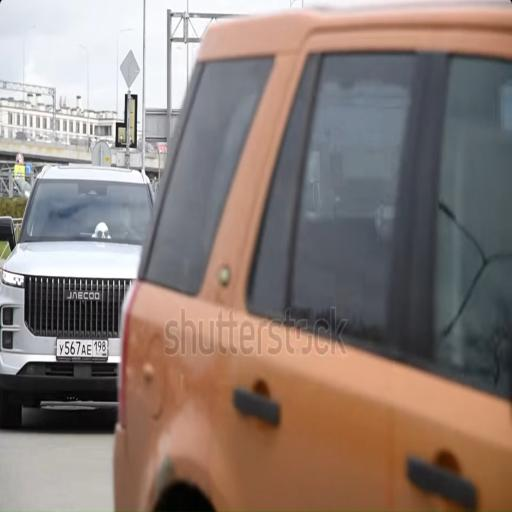License plates: (56, 339, 108, 359)
